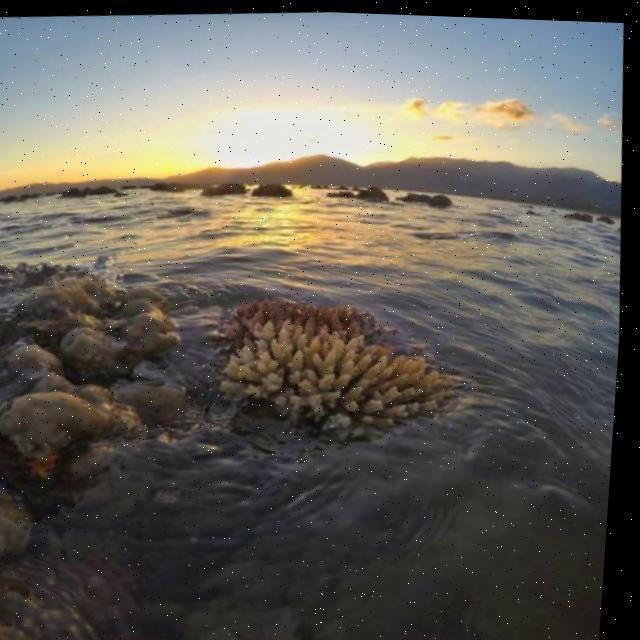Healthy Coral: (205, 285, 472, 444)
